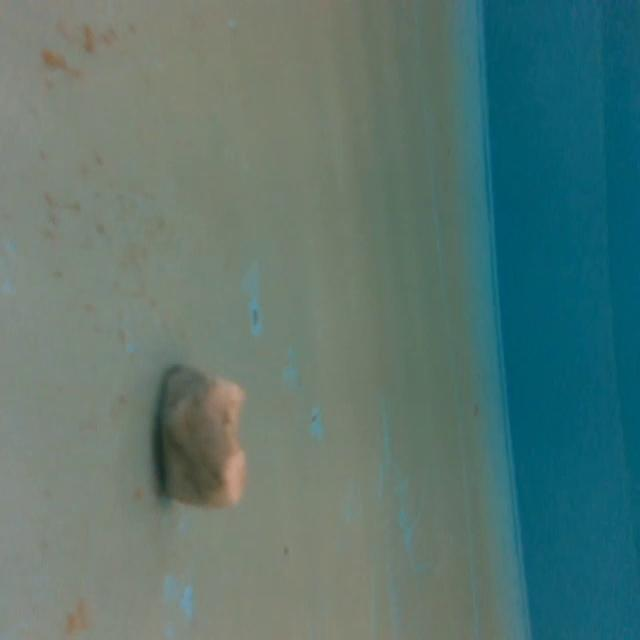rock: (154, 366, 255, 516)
